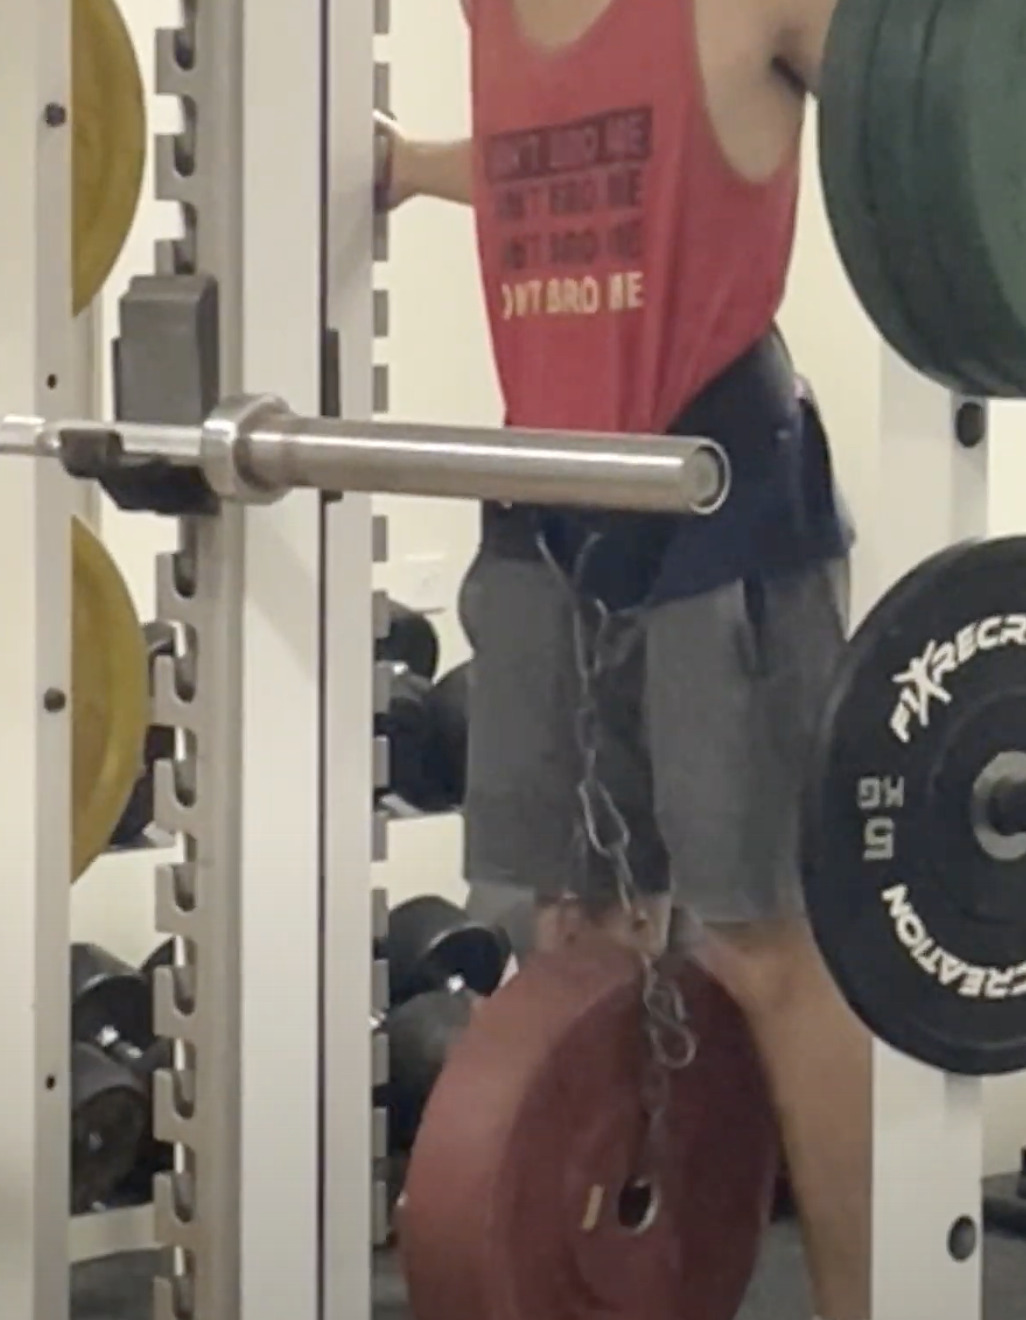barbell: (678, 435, 712, 496)
